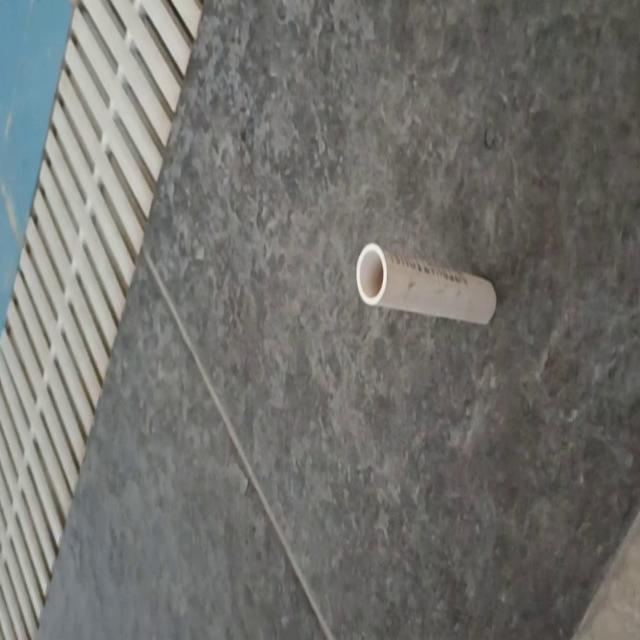Cube: (355, 240, 497, 326)
